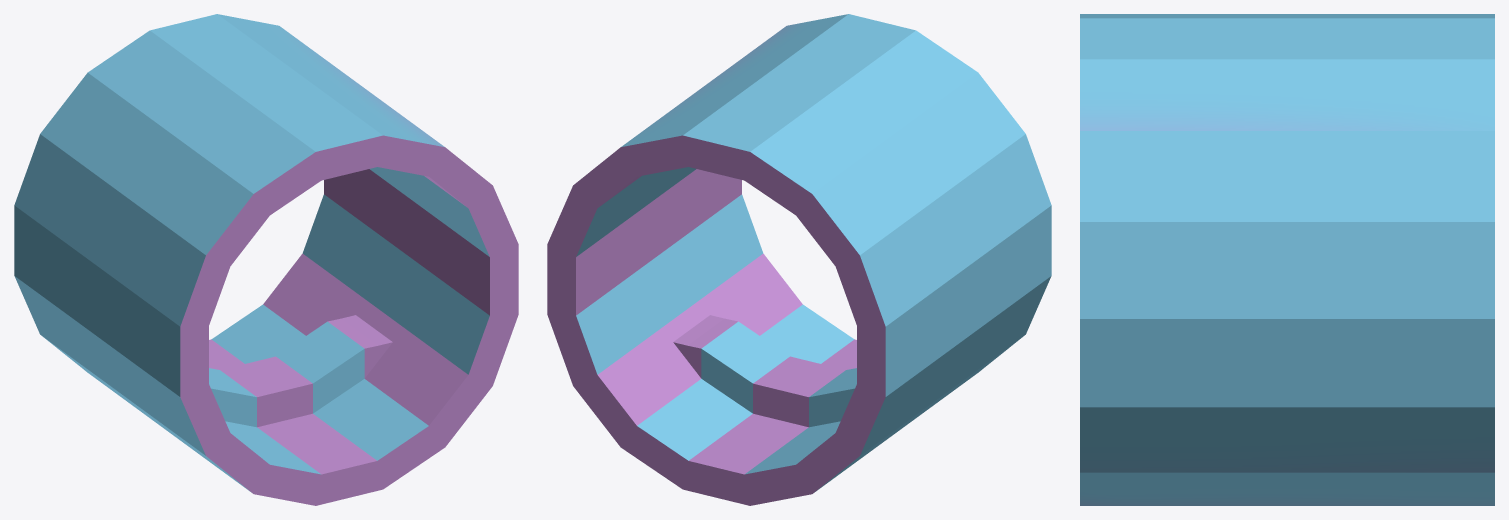
File: Tonnel_Borders.fbx
3 views of the same model, side by side, from view 1: azimuth 30°, elevation 25°; view 2: azimuth 150°, elevation 25°; view 3: azimuth 270°, elevation 25° (orthographic). The views are drawn at different scales.
Visible parts, largest first — view 1: Tonnel_Borders; view 2: Tonnel_Borders; view 3: Tonnel_Borders.
Part boxes in pixels (<box>): Tonnel_Borders: <box>14,14,518,505</box>; Tonnel_Borders: <box>547,14,1051,505</box>; Tonnel_Borders: <box>1080,14,1494,505</box>.
Size of the model in its own units: 2354 by 2354 by 2000.
Materials: 1 (1 with a texture image).
